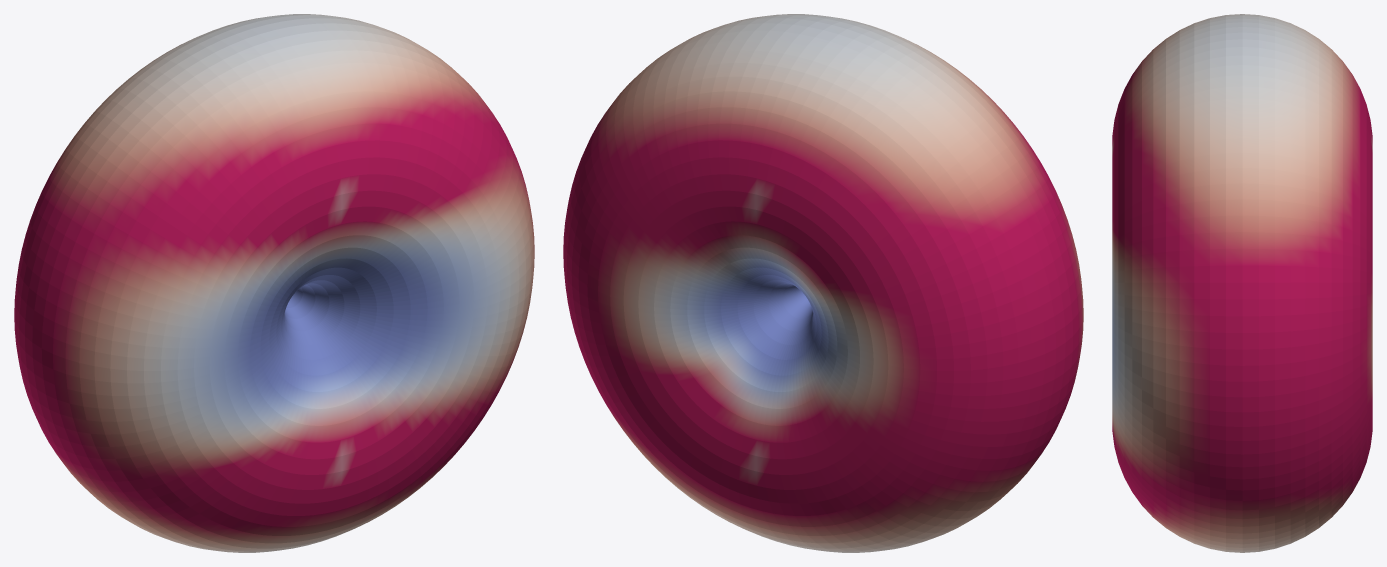
The picture shows the model from 3 angles, left to right: view 1: azimuth 30°, elevation 25°; view 2: azimuth 150°, elevation 25°; view 3: azimuth 270°, elevation 25°; orthographic projection. The views are drawn at different scales.
Parts seen in each view (by area): view 1: world; view 2: world; view 3: world.
Boxes of the visible parts, box(x1,y1,x2,y2) form: world: box(14, 14, 534, 552); world: box(563, 14, 1083, 552); world: box(1112, 14, 1372, 552).
Size of the model in its own units: 20.67 by 20.67 by 9.98.
